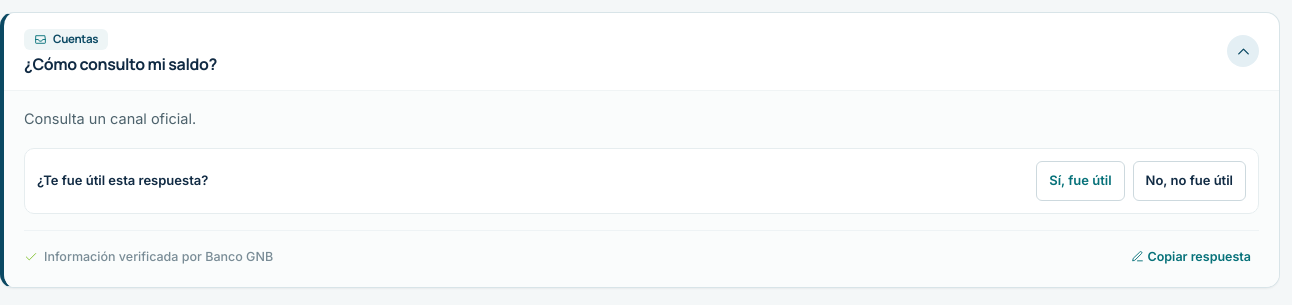
Test: feedback de FAQ pública › envía utilidad positiva y muestra confirmación solo después de la respuesta
The width and height of the screenshot is (1292, 305).
Click the button "Sí, fue útil" at (1080, 180), box [1036, 160, 1124, 200]
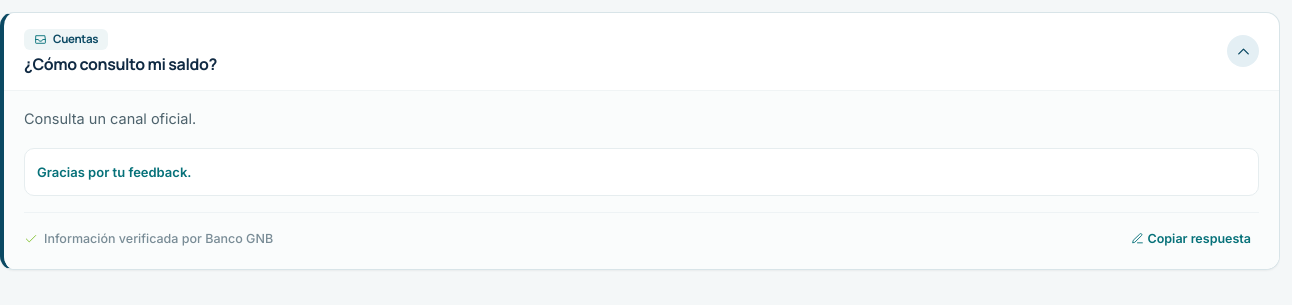
Expected: the text "Gracias por tu feedback." is shown, [37, 164, 192, 180]
